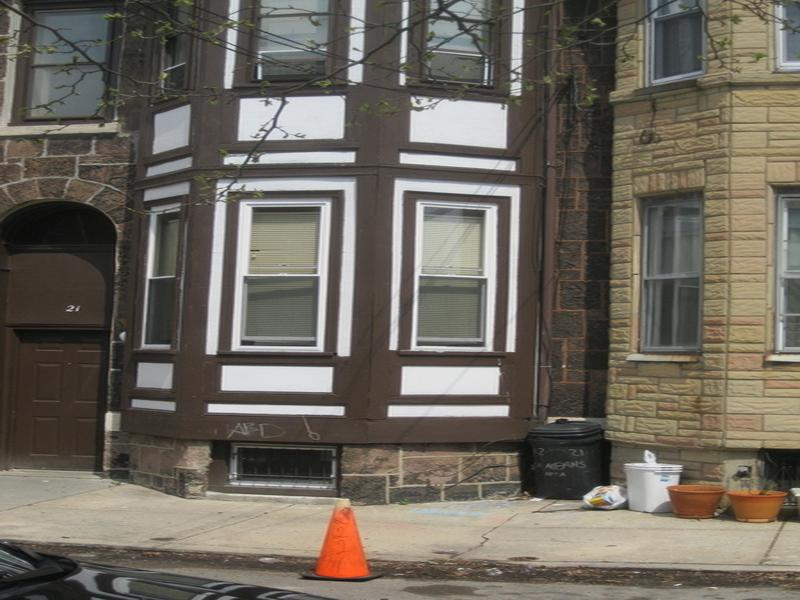Cone1: (300, 506, 387, 584)
